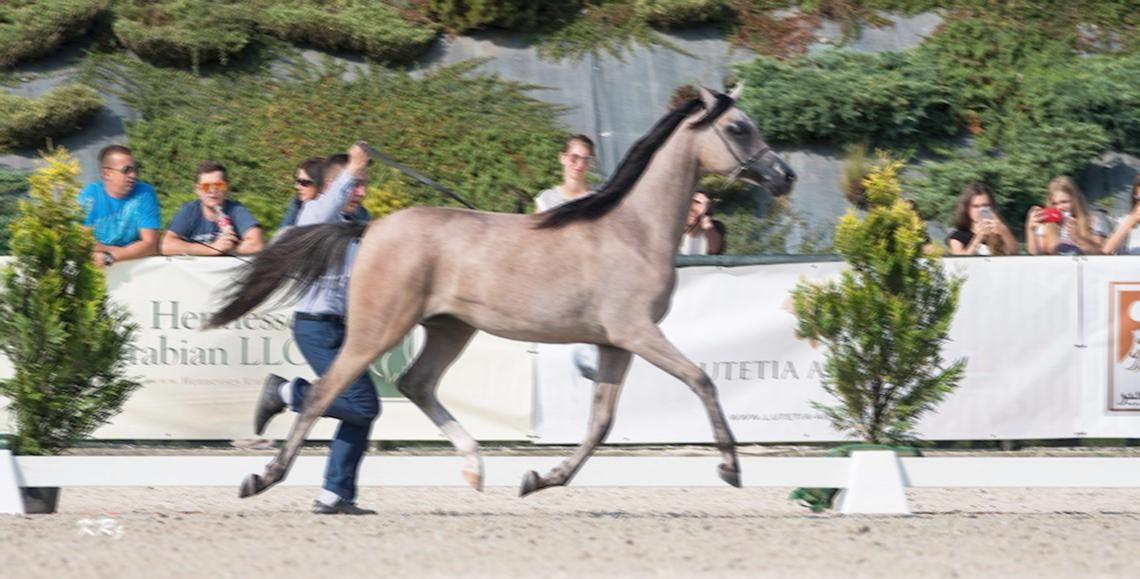horse: (197, 76, 796, 499)
